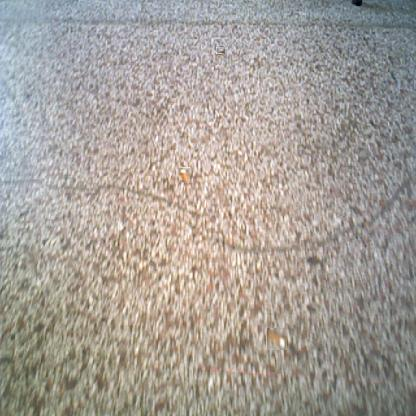dirty: (266, 328, 287, 350), (178, 168, 191, 182), (217, 46, 225, 55)
